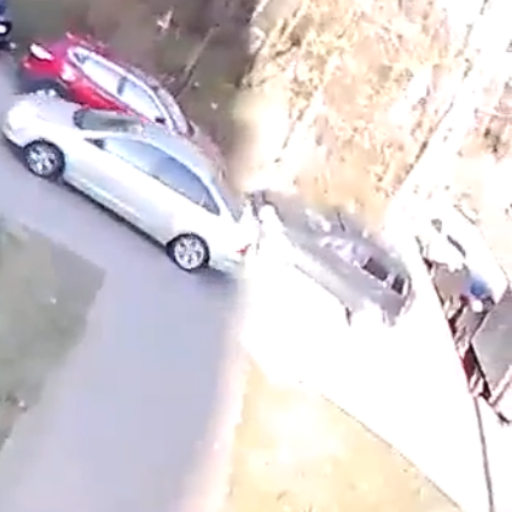Car: (6, 93, 253, 284), (19, 20, 230, 186), (253, 188, 413, 337), (453, 304, 512, 416), (431, 257, 498, 324), (413, 215, 476, 271)
